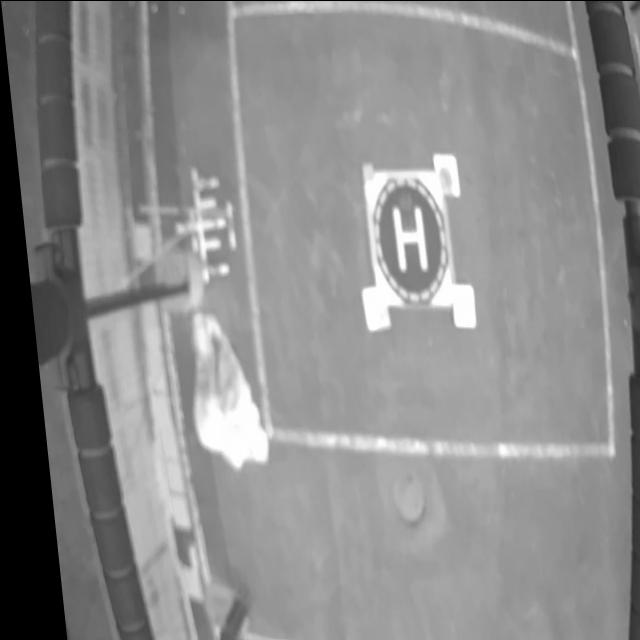Helipad: (387, 205, 421, 272)
